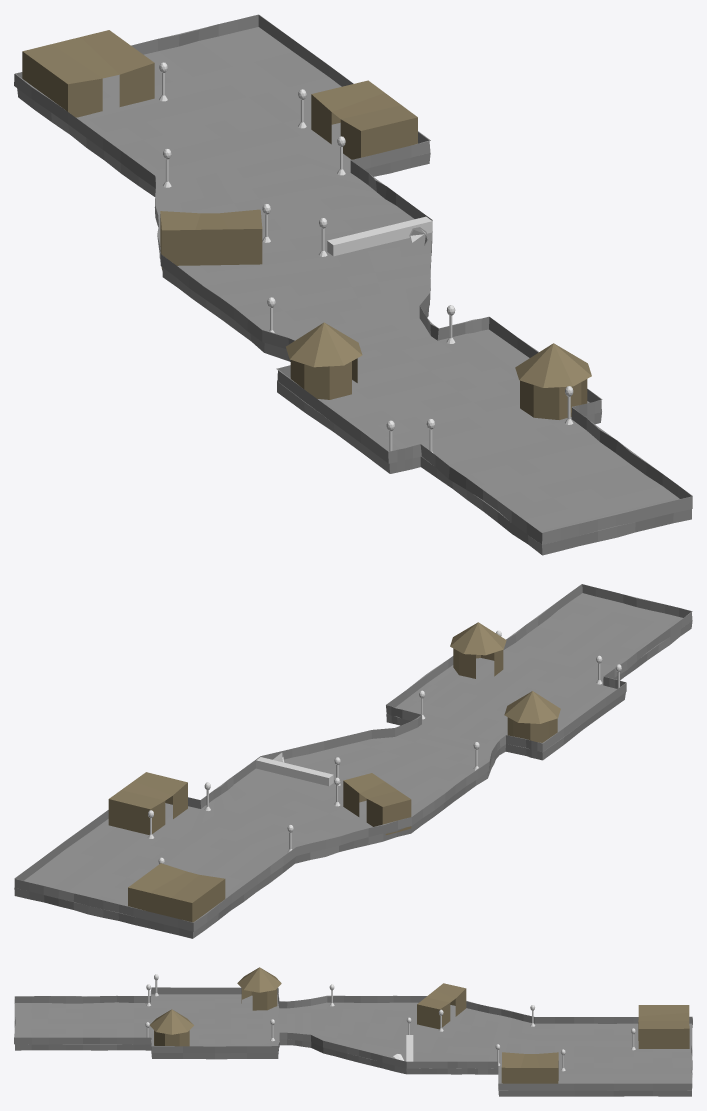
Rendered from QuickHourModel.fbx.
3 views of the same model, one above another, from view 1: azimuth 30°, elevation 25°; view 2: azimuth 150°, elevation 25°; view 3: azimuth 270°, elevation 25° (orthographic). The views are drawn at different scales.
Visible parts, largest first — view 1: Cube.001, Cube.007, Cube.006, Cube.005, Cylinder.001, Cylinder.002, Cube.004; view 2: Cube.001, Cube.007, Cube.006, Cube.005, Cylinder.001, Cylinder.002, Cube.004; view 3: Cube.001, Cube.007, Cube.006, Cube.005, Cylinder.001, Cylinder.002.
Boxes of the visible parts, x1=… form: Cube.001: x1=14, y1=14, x2=692, y2=555; Cube.007: x1=22, y1=30, x2=154, y2=117; Cube.006: x1=311, y1=80, x2=417, y2=159; Cube.005: x1=160, y1=209, x2=262, y2=269; Cylinder.001: x1=286, y1=322, x2=362, y2=399; Cylinder.002: x1=515, y1=343, x2=591, y2=419; Cube.004: x1=327, y1=216, x2=432, y2=256; Cube.001: x1=14, y1=584, x2=692, y2=938; Cube.007: x1=128, y1=863, x2=225, y2=922; Cube.006: x1=108, y1=772, x2=187, y2=834; Cube.005: x1=343, y1=773, x2=411, y2=835; Cylinder.001: x1=504, y1=691, x2=560, y2=742; Cylinder.002: x1=450, y1=622, x2=506, y2=678; Cube.004: x1=256, y1=757, x2=333, y2=786; Cube.001: x1=14, y1=987, x2=692, y2=1096; Cube.007: x1=638, y1=1005, x2=689, y2=1048; Cube.006: x1=501, y1=1052, x2=558, y2=1083; Cube.005: x1=417, y1=983, x2=466, y2=1029; Cylinder.001: x1=237, y1=967, x2=281, y2=1010; Cylinder.002: x1=149, y1=1009, x2=193, y2=1046.
Size of the model in its own units: 6500 by 1314 by 19155.
